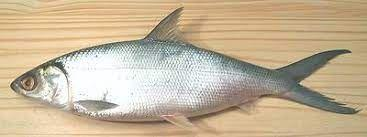Bangus: (12, 6, 362, 130)
